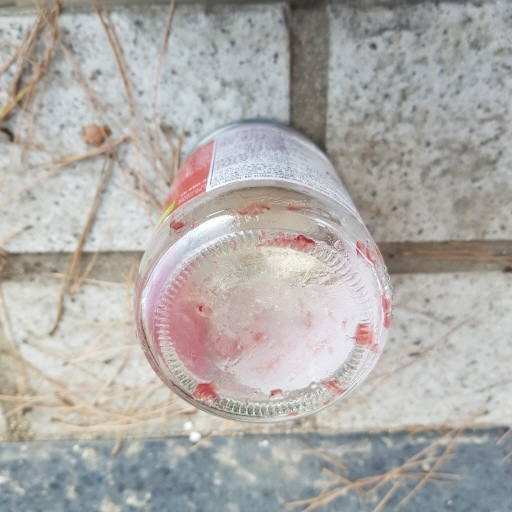Glass_5: (131, 116, 396, 419)
